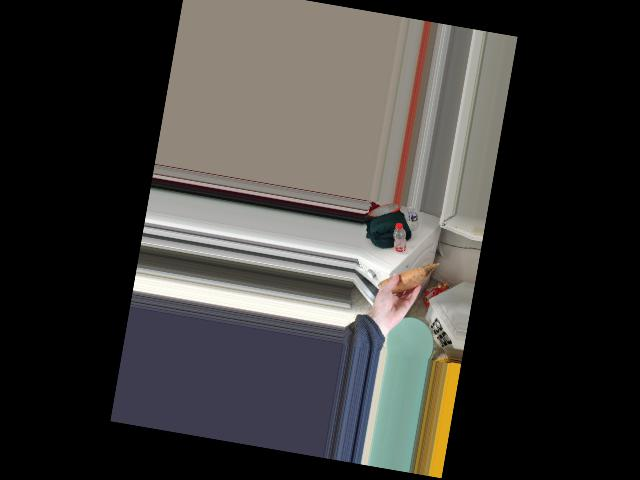sweet_potato: (384, 264, 423, 295)
